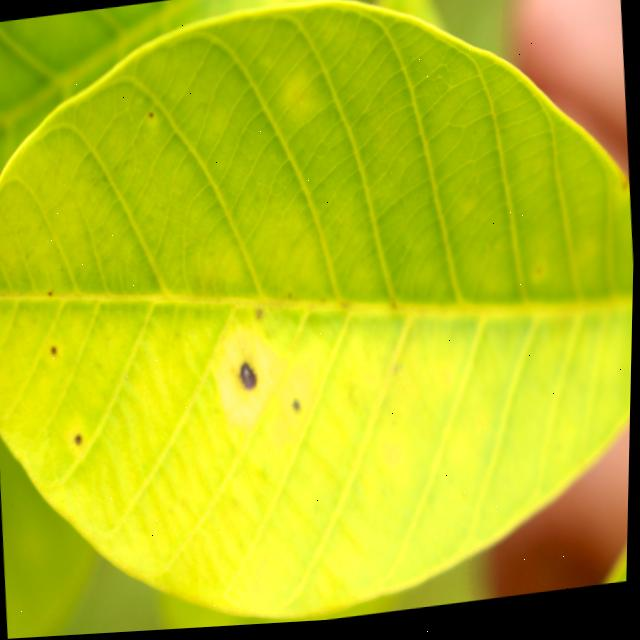Colletotrichum: (240, 363, 259, 393)
